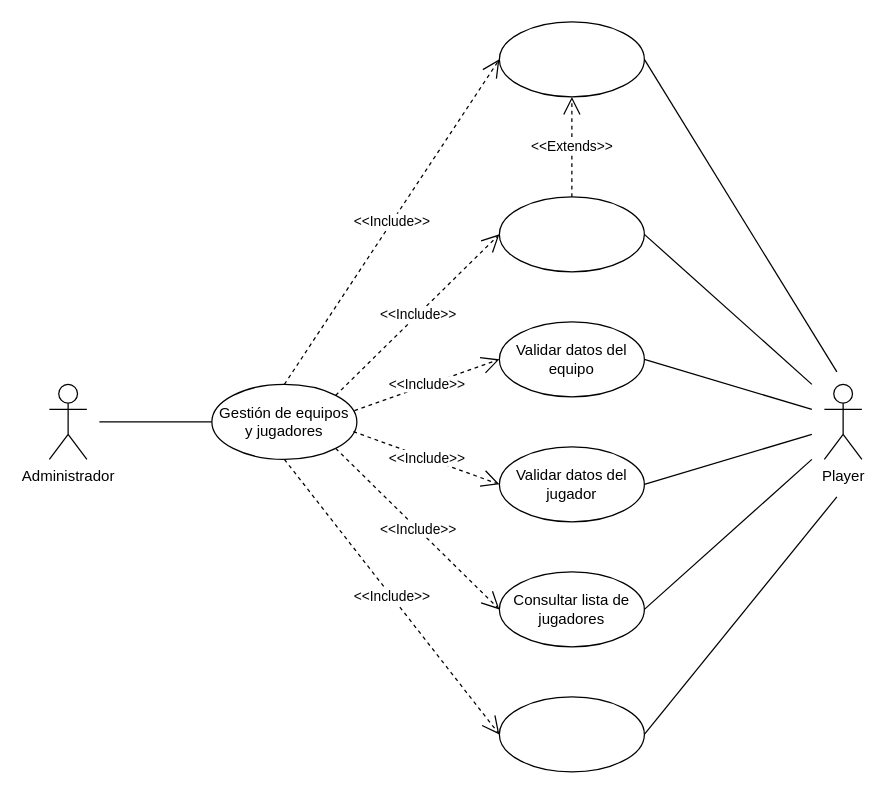
Some shapes in this 885 by 794 pixel diagram are drawn without their labels. The centre of each missing label's shape, as x and y in pixels:
"Añadir jugadores a un equipo" belongs at (x=571, y=234).
"Consultar lista de equipos" belongs at (x=571, y=734).
"Registrar equipo" belongs at (x=571, y=59).
